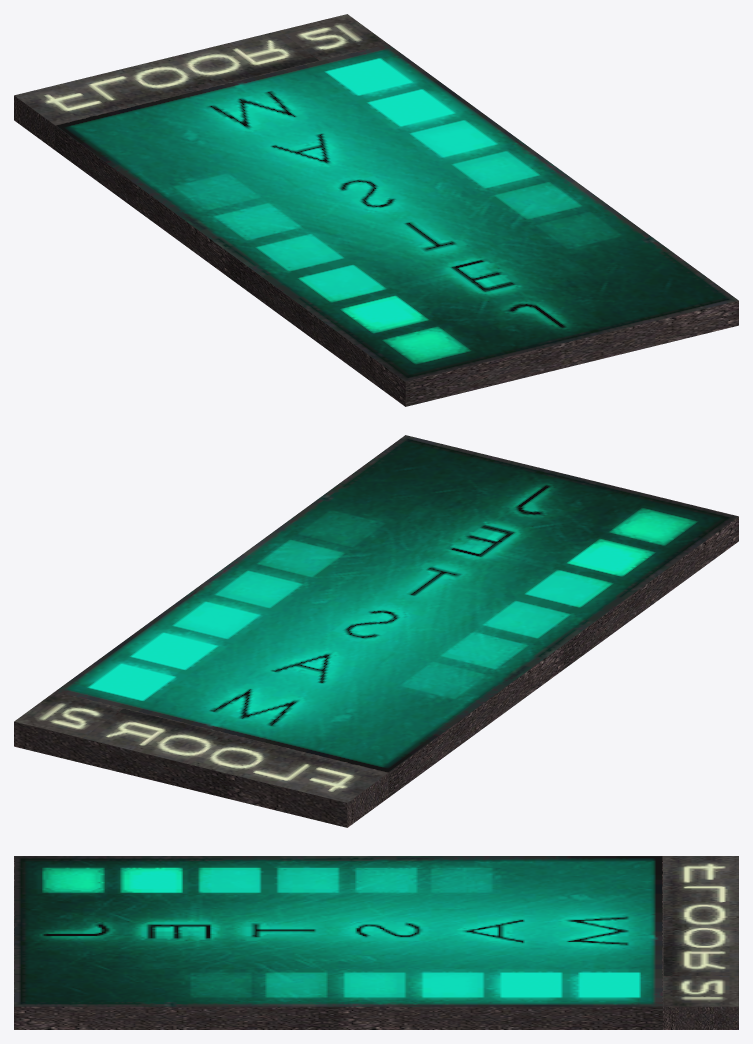
Rendered from culb_jetsam_floor.fbx.
3 renders of one model, top to bottom at view 1: azimuth 30°, elevation 25°; view 2: azimuth 150°, elevation 25°; view 3: azimuth 270°, elevation 25°, orthographic. The views are drawn at different scales.
Parts seen in each view (by area): view 1: mesh_1, mesh_0; view 2: mesh_1, mesh_0; view 3: mesh_1, mesh_0.
Part boxes in pixels (x1,y1,x2,y2): mesh_1: [14, 44, 738, 406]; mesh_0: [14, 14, 387, 125]; mesh_1: [14, 435, 738, 827]; mesh_0: [14, 691, 387, 802]; mesh_1: [14, 856, 738, 1029]; mesh_0: [663, 856, 738, 1006].
Size of the model in its own units: 140 by 10 by 285.
Materials: 2 (2 with a texture image).
